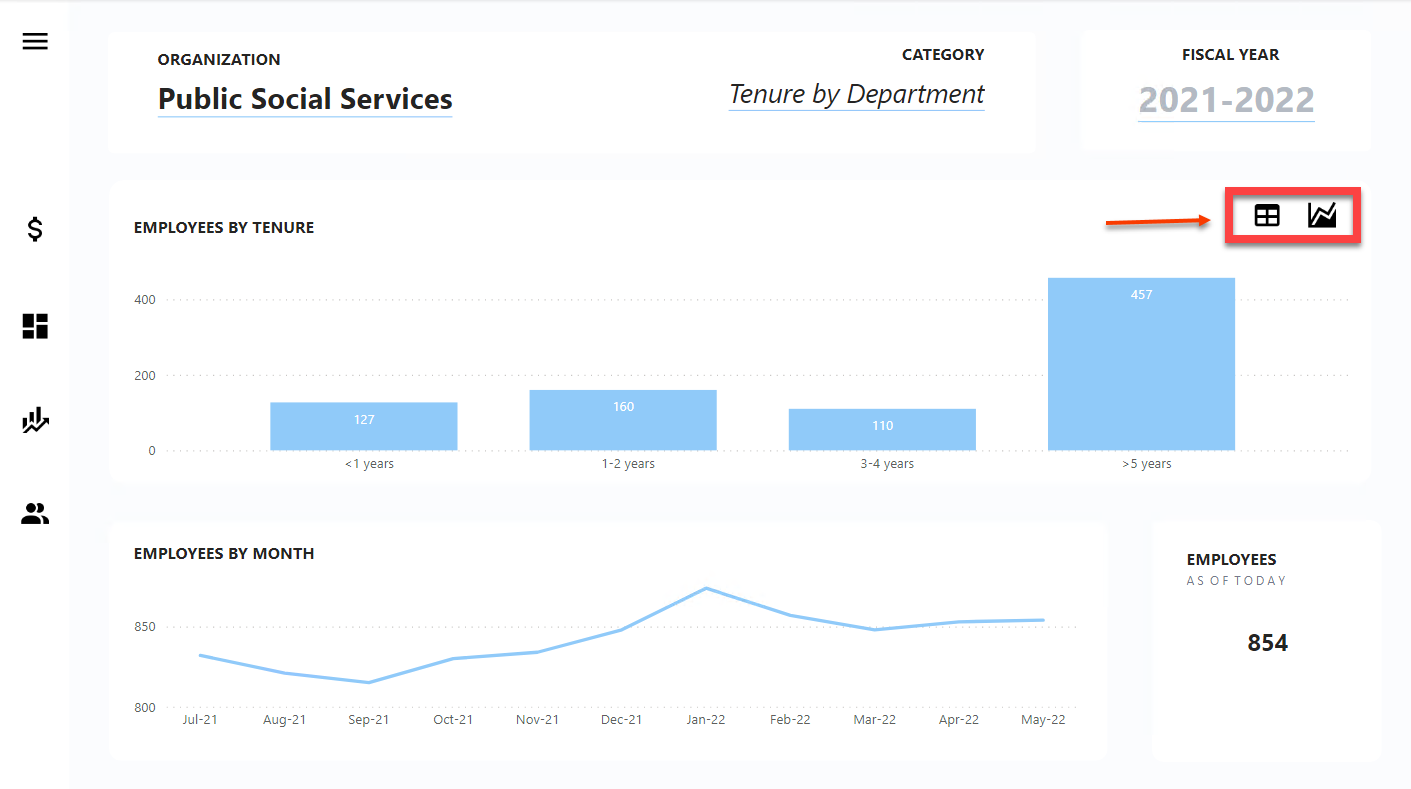

This screenshot's page, from the dashboard's own definition file:
{"tool":"powerbi","page":{"name":"Page 1","canvas":[1280,720],"ordinal":0},"visuals":[{"type":"shape","box":[0,0,64,719.9],"z":0},{"type":"shape","box":[98.9,29.7,840,110],"z":1000},{"type":"shape","box":[99.3,164.1,1143.2,275],"z":2000},{"type":"shape","box":[99.3,472.3,904.2,217.4],"z":3000},{"type":"textbox","box":[979.8,41,262.6,46.7],"z":4000},{"type":"lineChart","title":"EMPLOYEES BY MONTH","fields":{"Category":["calendar.Month Year"],"Y":["dataset.EmployeesValue"]},"box":[116.6,491,863.9,180],"z":6000},{"type":"shape","box":[980.7,28,261.6,110.2],"z":7000},{"type":"textbox","box":[981.6,62.1,260.7,81.4],"z":8000},{"type":"textbox","box":[986.3,34.6,256.3,47.5],"z":9000},{"type":"shape","box":[1043.4,471.6,207.7,218.9],"z":10000},{"type":"card","fields":{"Values":["dataset.EmployeesValue"]},"box":[1070,507.9,156.7,151.9],"z":11000},{"type":"textbox","box":[1070,491.5,181.9,53.2],"z":12000},{"type":"image","box":[12.2,18.4,40.2,40.2],"z":13000},{"type":"image","box":[12.2,446.2,40.2,40.2],"z":14000},{"type":"image","box":[12.2,360.4,40.2,40.2],"z":15000},{"type":"image","box":[12.2,276.5,40.2,40.2],"z":16000},{"type":"image","box":[12.2,188.1,40.2,40.2],"z":17000},{"type":"textbox","box":[616.2,63.4,280.8,82.1],"z":18000},{"type":"textbox","box":[640.7,34.6,256.3,47.5],"z":19000},{"type":"textbox","box":[138.2,64.8,410.3,82.1],"z":20000},{"type":"textbox","box":[138.2,38.9,256.3,47.5],"z":21000},{"type":"clusteredColumnChart","title":"EMPLOYEES BY TENURE","fields":{"Category":["SortTenureCombinedOrder.TenureText"],"Y":["dataset.Employees Flexible Axis"]},"box":[116.8,195.9,1109.7,243.3],"z":21250},{"type":"image","box":[1127.9,175.6,40,39.8],"z":22000},{"type":"image","box":[1177.7,175.6,40,40],"z":23000}]}

Visuals, with their boxes on the page's 1280x720 design canvas (x1, y1, x2, y2). These are canvas units, not pixel positions in the 1411x789 screenshot, which may show the page scaled, cropped or inside an application window:
shape: box(0, 0, 64, 720)
shape: box(99, 30, 939, 140)
shape: box(99, 164, 1242, 439)
shape: box(99, 472, 1004, 690)
textbox: box(980, 41, 1242, 88)
"EMPLOYEES BY MONTH" lineChart: box(117, 491, 980, 671)
shape: box(981, 28, 1242, 138)
textbox: box(982, 62, 1242, 144)
textbox: box(986, 35, 1243, 82)
shape: box(1043, 472, 1251, 690)
card - dataset.EmployeesValue: box(1070, 508, 1227, 660)
textbox: box(1070, 492, 1252, 545)
image: box(12, 18, 52, 59)
image: box(12, 446, 52, 486)
image: box(12, 360, 52, 401)
image: box(12, 276, 52, 317)
image: box(12, 188, 52, 228)
textbox: box(616, 63, 897, 146)
textbox: box(641, 35, 897, 82)
textbox: box(138, 65, 548, 147)
textbox: box(138, 39, 394, 86)
"EMPLOYEES BY TENURE" clusteredColumnChart: box(117, 196, 1226, 439)
image: box(1128, 176, 1168, 215)
image: box(1178, 176, 1218, 216)
